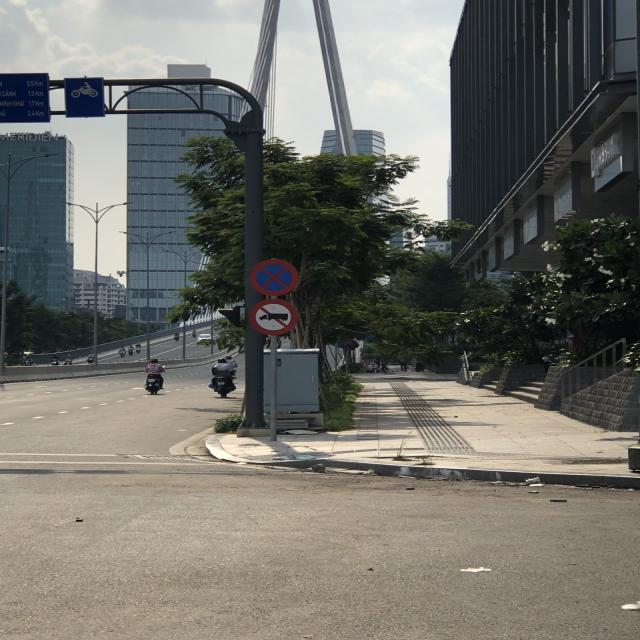Bien bao cam dung xe va do xe: (240, 253, 309, 299)
Bien bao cam xe so-mi ro-mooc: (239, 298, 311, 338)
